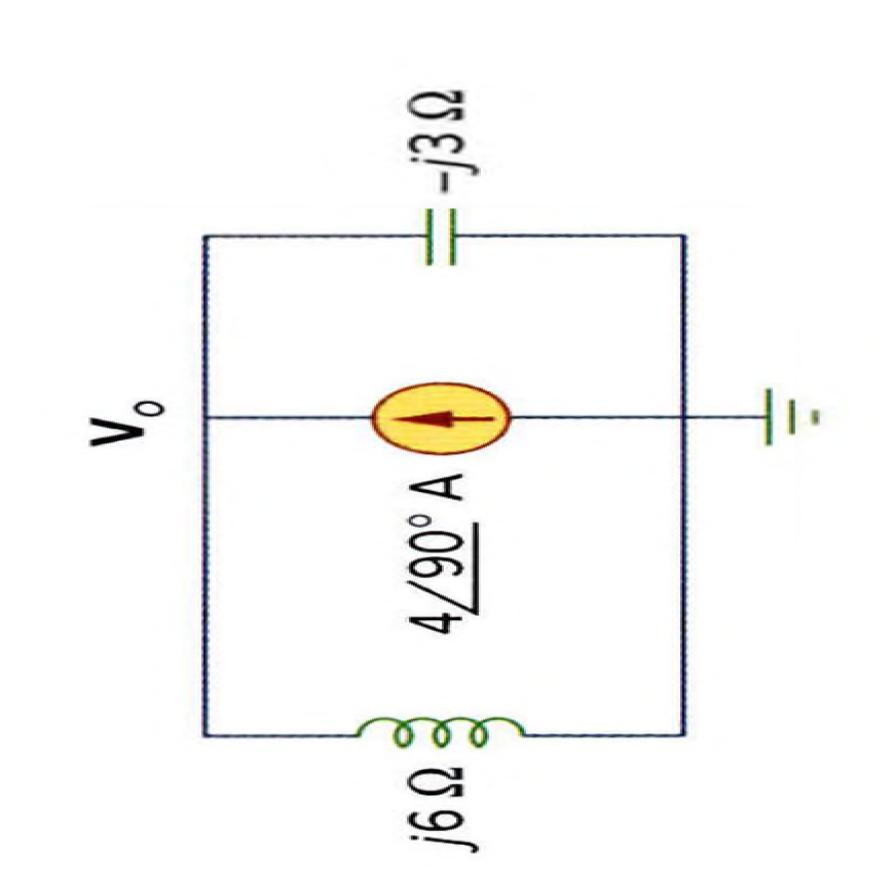C1: (393, 200, 489, 272)
I4: (354, 372, 518, 464)
L1: (340, 700, 541, 758)
